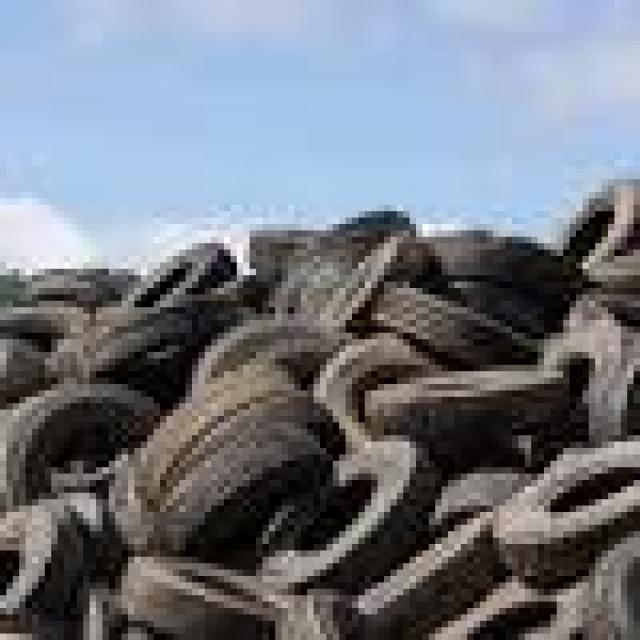Rubber -Non-Biodegradable but Recyclable-: (2, 189, 640, 640)
